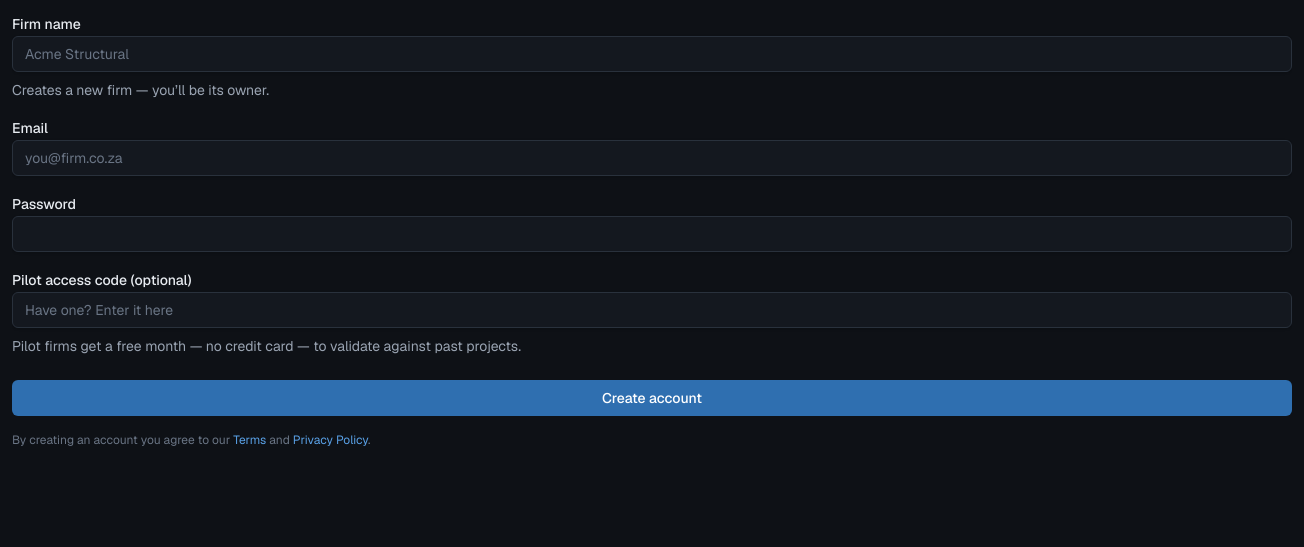
Test: SignupForm › requires firm name, email and a 10+ char password
The width and height of the screenshot is (1304, 547).
Step 1. Type "short" into the password field labelled "Password" → (652, 234), box [12, 216, 1292, 252]
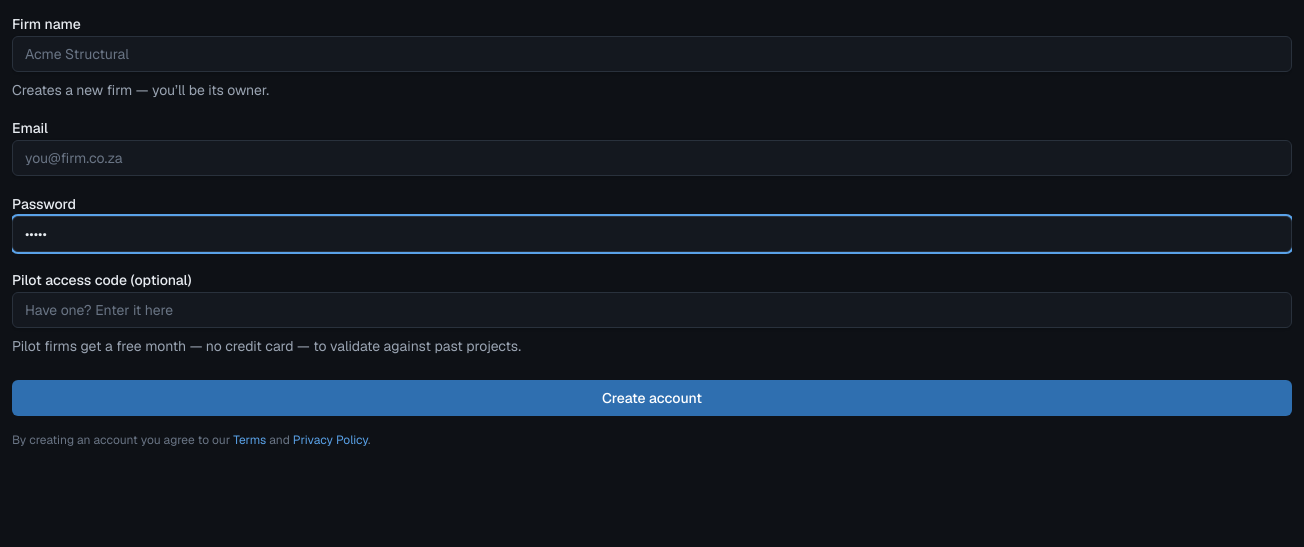
Step 2. Click the button "Create account" → (652, 398), box [12, 380, 1292, 416]
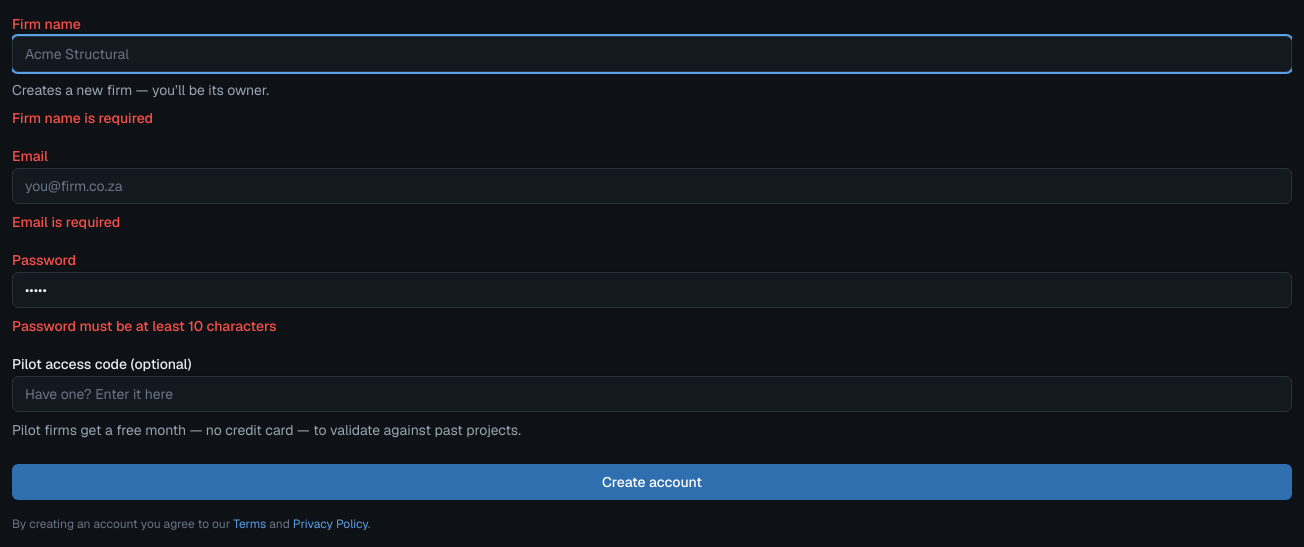
Expected: the text "Firm name is required" is shown, [12, 109, 153, 127]
Expected: the text "Email is required" is shown, [12, 213, 120, 231]
Expected: the text "Password must be at least 10 characters" is shown, [12, 317, 276, 335]
